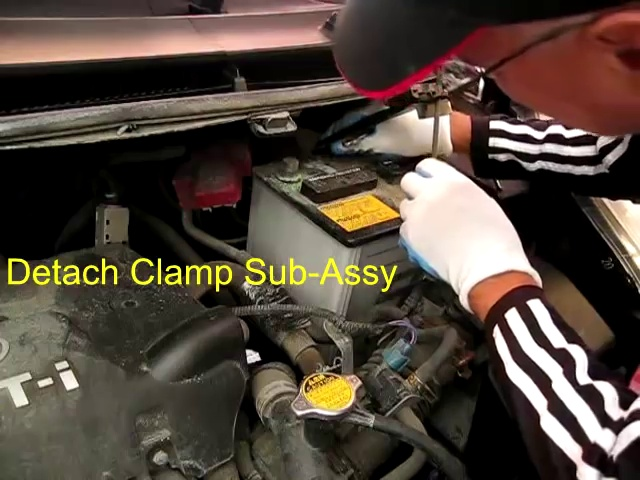battery: (253, 151, 528, 226)
